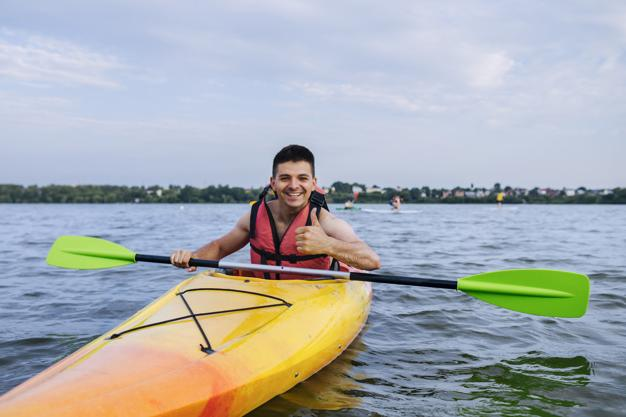thumbsup: (295, 207, 319, 254)
